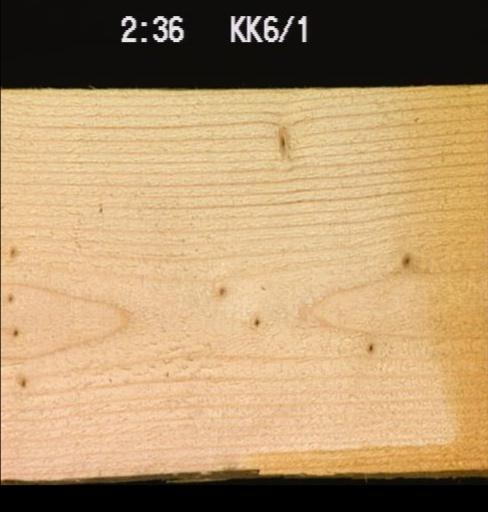small_knot: (387, 240, 425, 270), (269, 121, 296, 159), (0, 235, 25, 266), (0, 318, 30, 340), (357, 336, 382, 357), (248, 307, 268, 331), (14, 369, 35, 389), (211, 282, 233, 300), (0, 290, 18, 307)
wave: (156, 436, 483, 478)
